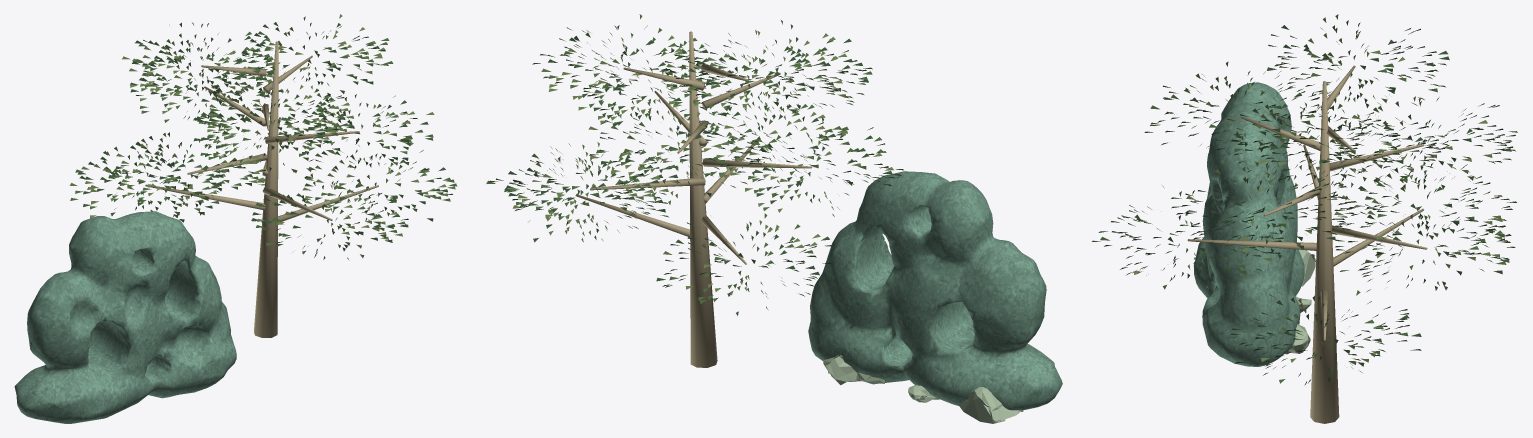
File: reference-public_models_places-low_qujingtongyou.glb
3 renders of one model, left to right at view 1: azimuth 30°, elevation 25°; view 2: azimuth 150°, elevation 25°; view 3: azimuth 270°, elevation 25°, orthographic. The views are drawn at different scales.
Parts seen in each view (by area): view 1: Mobile_qujingtongyou_gardenstone, Mobile_qujingtongyou_plants; view 2: Mobile_qujingtongyou_gardenstone, Mobile_qujingtongyou_plants, Mobile_qujingtongyou_limestone; view 3: Mobile_qujingtongyou_plants, Mobile_qujingtongyou_gardenstone, Mobile_qujingtongyou_limestone.
Part boxes in pixels (<box>): Mobile_qujingtongyou_gardenstone: <box>14,211,236,423</box>; Mobile_qujingtongyou_plants: <box>69,14,457,337</box>; Mobile_qujingtongyou_gardenstone: <box>808,171,1062,410</box>; Mobile_qujingtongyou_plants: <box>486,14,903,367</box>; Mobile_qujingtongyou_limestone: <box>823,354,1023,423</box>; Mobile_qujingtongyou_plants: <box>1092,14,1517,423</box>; Mobile_qujingtongyou_gardenstone: <box>1193,82,1304,366</box>; Mobile_qujingtongyou_limestone: <box>1285,249,1315,354</box>.
Size of the model in its own units: 16.68 by 10.1 by 11.27.
Materials: 3 (2 with a texture image).
